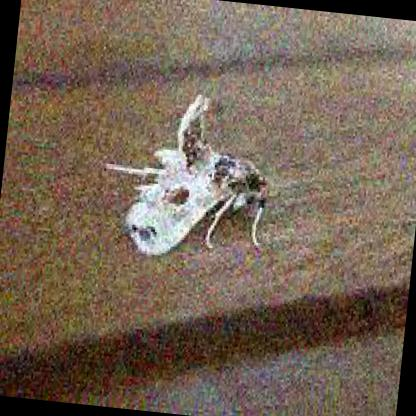leucinodes: (105, 98, 273, 256)
